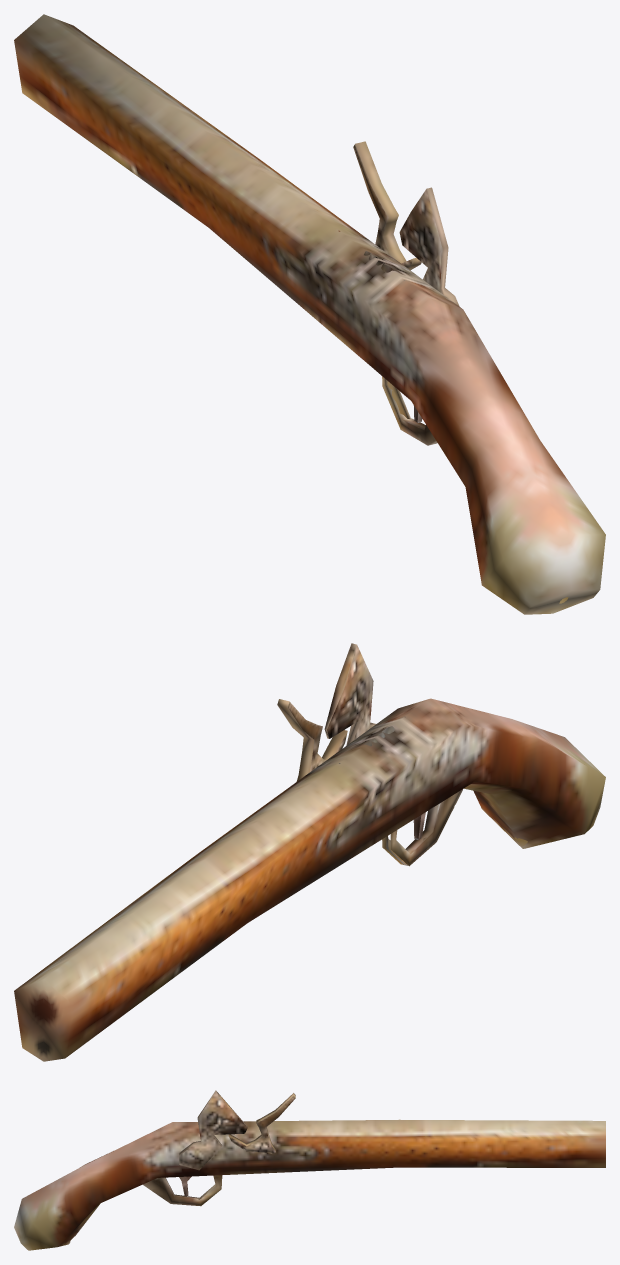
File: Pistol.fbx
The picture shows the model from 3 angles, top to bottom: view 1: azimuth 30°, elevation 25°; view 2: azimuth 150°, elevation 25°; view 3: azimuth 270°, elevation 25°; orthographic projection. The views are drawn at different scales.
Visible parts, largest first — view 1: PistolmainBody, PistolUpperLever, PistolFrontLever, PistolLowerPart; view 2: PistolmainBody, PistolUpperLever, PistolFrontLever, PistolLowerPart; view 3: PistolmainBody, PistolUpperLever, PistolFrontLever, PistolLowerPart.
Part boxes in pixels (box(x1,y1,x2,y2)): PistolmainBody: box(14, 14, 605, 614); PistolUpperLever: box(399, 187, 459, 306); PistolFrontLever: box(353, 141, 421, 270); PistolLowerPart: box(382, 376, 437, 445); PistolmainBody: box(14, 698, 605, 1061); PistolUpperLever: box(324, 643, 375, 745); PistolFrontLever: box(277, 699, 347, 781); PistolLowerPart: box(382, 789, 462, 866); PistolmainBody: box(14, 1119, 605, 1250); PistolUpperLever: box(179, 1090, 247, 1170); PistolFrontLever: box(228, 1093, 295, 1154); PistolLowerPart: box(143, 1175, 222, 1206).
Bounding box in the file's own units: 54.25 × 151 × 483.
